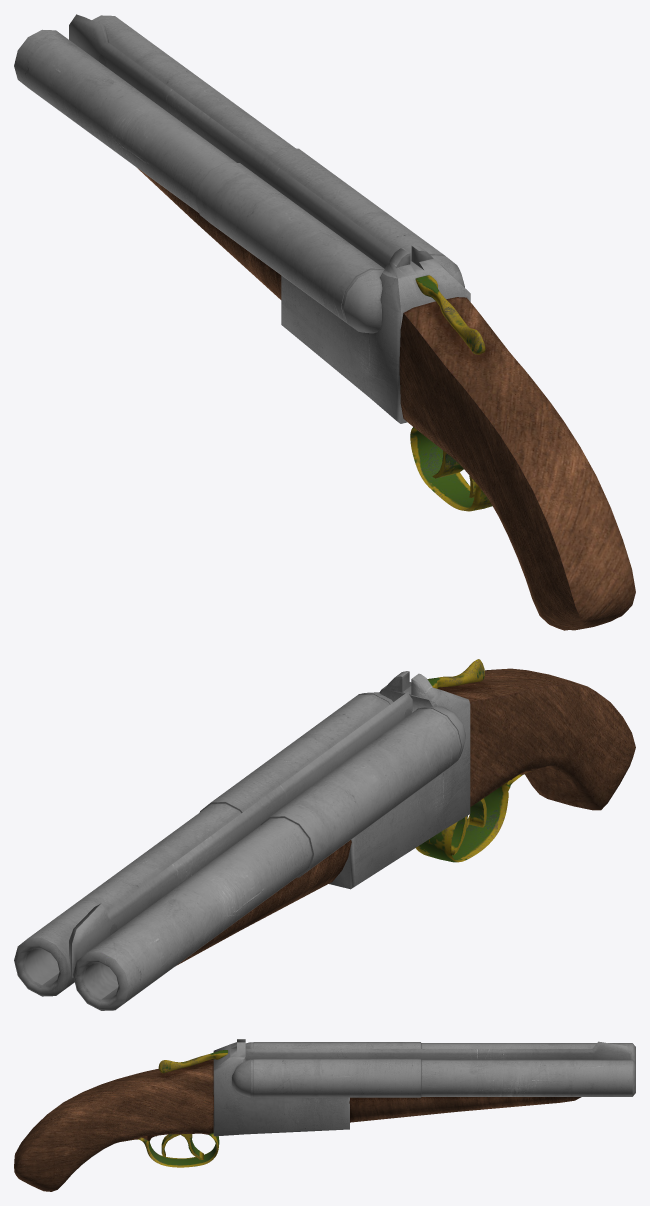
Rendered from Shotgun.fbx.
The picture shows the model from 3 angles, top to bottom: view 1: azimuth 30°, elevation 25°; view 2: azimuth 150°, elevation 25°; view 3: azimuth 270°, elevation 25°; orthographic projection. The views are drawn at different scales.
Visible parts, largest first — view 1: Shotgun; view 2: Shotgun; view 3: Shotgun.
Boxes of the visible parts, x1,y1,x2,y2 form: Shotgun: (14,14,635,630); Shotgun: (14,659,635,1010); Shotgun: (14,1039,635,1191).
Bounding box in the file's own units: 168 × 343 × 1329.
